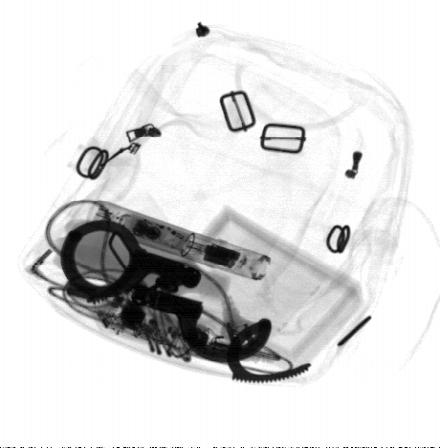Baton: (84, 199, 271, 282)
HandCuffs: (59, 218, 315, 385)
